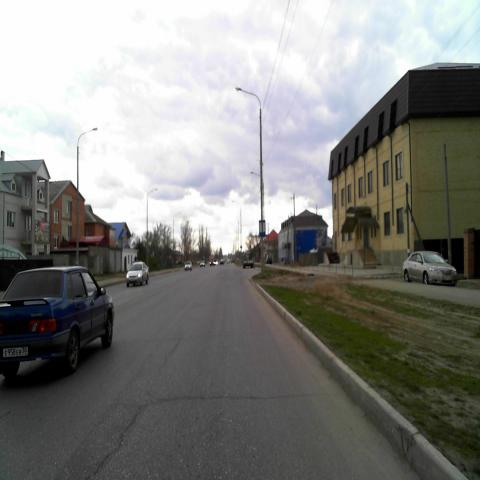7_4: (259, 220, 265, 237)
